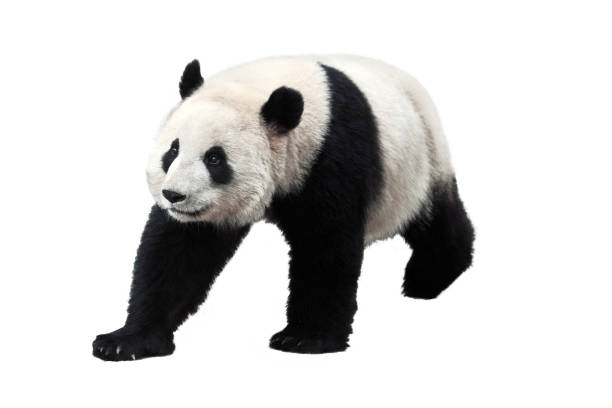panda: (116, 61, 309, 257)
